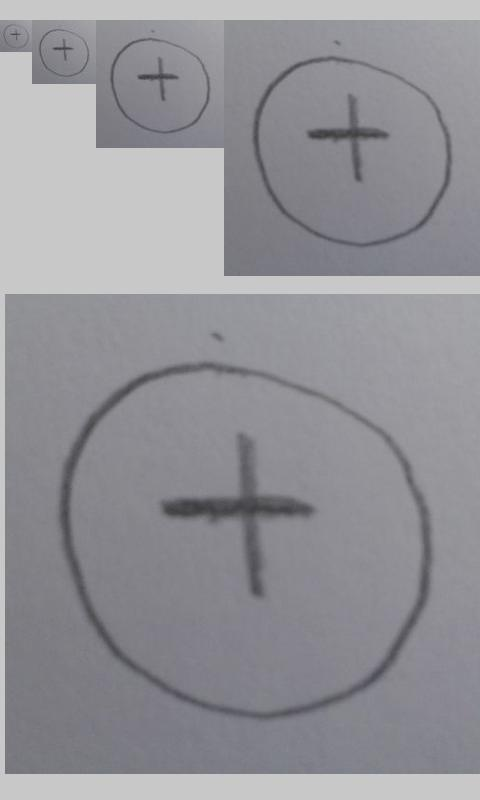button: (59, 361, 434, 722), (253, 55, 453, 249), (110, 37, 211, 135), (38, 28, 91, 78), (3, 24, 29, 49)
